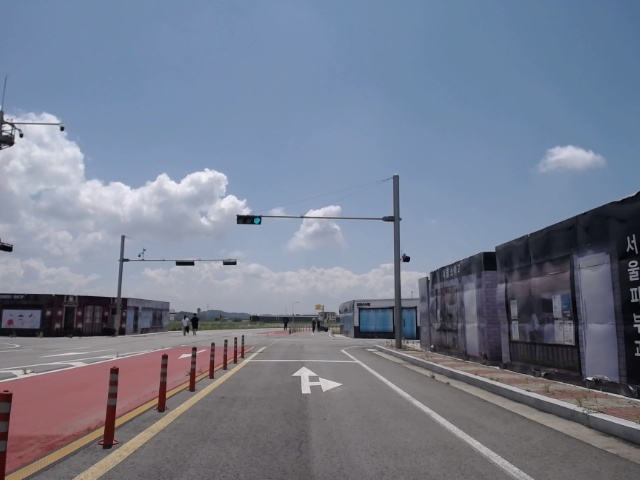green_3: (237, 214, 262, 224)
